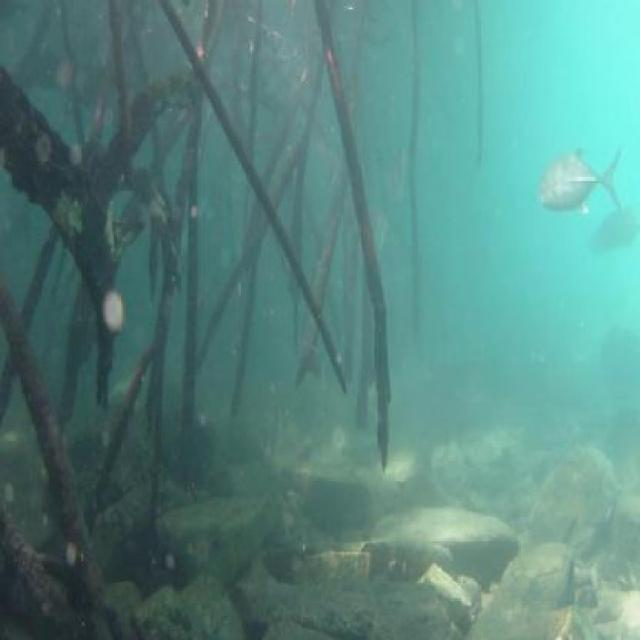Caranx_sexfasciatus_juvenile: (538, 138, 622, 225), (378, 137, 413, 200), (319, 144, 346, 213), (368, 203, 395, 271)
